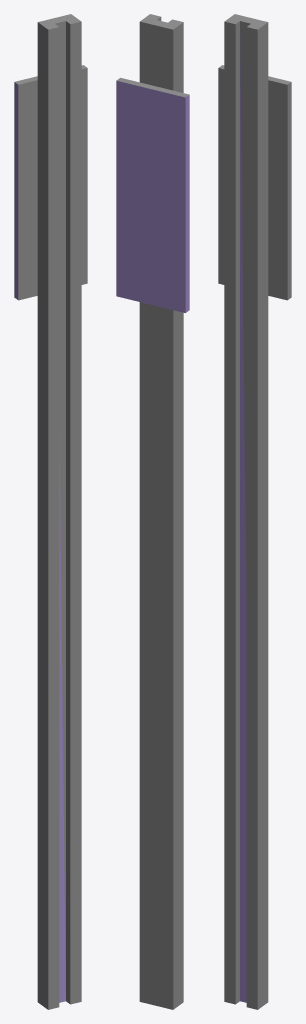
Rendered from SM_Sign_01.fbx.
3 renders of one model, left to right at view 1: azimuth 30°, elevation 25°; view 2: azimuth 150°, elevation 25°; view 3: azimuth 330°, elevation 25°, orthographic.
Visible parts, largest first — view 1: SM_Sign_01; view 2: SM_Sign_01; view 3: SM_Sign_01.
Boxes of the visible parts, x1,y1,x2,y2 form: SM_Sign_01: [14, 14, 87, 1009]; SM_Sign_01: [116, 14, 189, 1009]; SM_Sign_01: [218, 14, 291, 1009].
Size of the model in its own units: 28.82 by 390 by 11.47.
